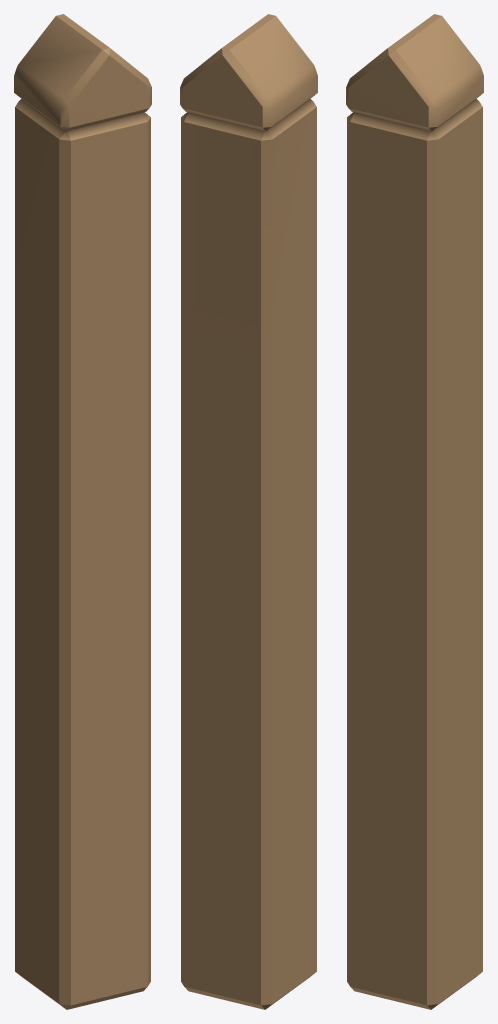
File: fence_post.glb
3 renders of one model, left to right at view 1: azimuth 30°, elevation 25°; view 2: azimuth 150°, elevation 25°; view 3: azimuth 330°, elevation 25°, orthographic.
Parts seen in each view (by area): view 1: PART; view 2: PART; view 3: PART.
Part boxes in pixels (left/top/right/bottom): PART: left=14, top=14, right=151, bottom=1009; PART: left=180, top=14, right=317, bottom=1009; PART: left=346, top=14, right=483, bottom=1009.
Size of the model in its own units: 0.1 by 0.9958 by 0.1.
